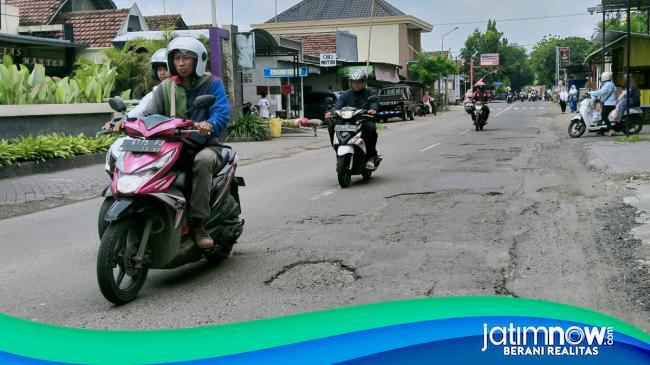Pothole: (276, 247, 369, 293), (299, 200, 337, 231), (385, 187, 448, 203), (474, 187, 515, 198)
